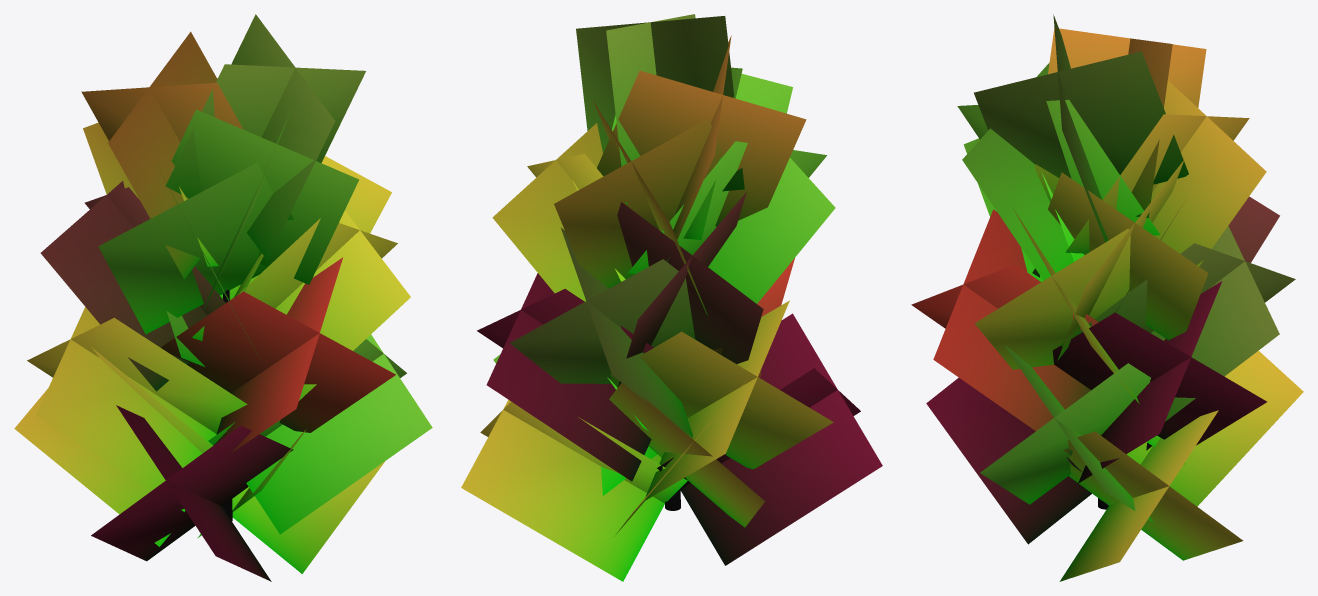
The model's file is Tree_20.fbx.
3 views of the same model, side by side, from view 1: azimuth 30°, elevation 25°; view 2: azimuth 150°, elevation 25°; view 3: azimuth 270°, elevation 25° (orthographic).
Parts seen in each view (by area): view 1: Tree_20; view 2: Tree_20; view 3: Tree_20.
Boxes of the visible parts, box(x1,y1,x2,y2) form: Tree_20: box(14, 14, 432, 581); Tree_20: box(461, 14, 882, 581); Tree_20: box(911, 14, 1303, 581).
Size of the model in its own units: 1077 by 1509 by 1016.
